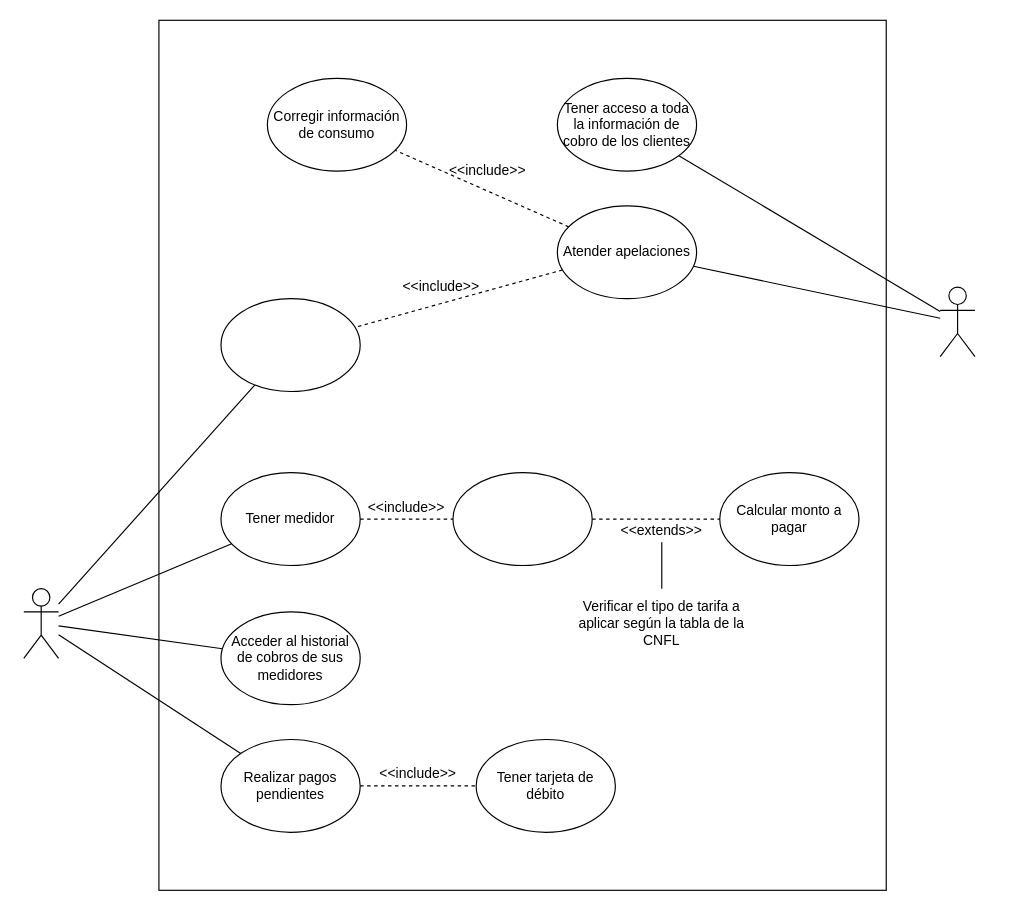
This 1031x911 diagram has some shape labels left out. The centre of each missing label's shape, as x and y in pixels:
"Cliente" goes at (41,623).
"Generar tarifa" goes at (522,519).
"Iniciar apelación" goes at (290,345).
"Servicio al cliente" goes at (957,321).
